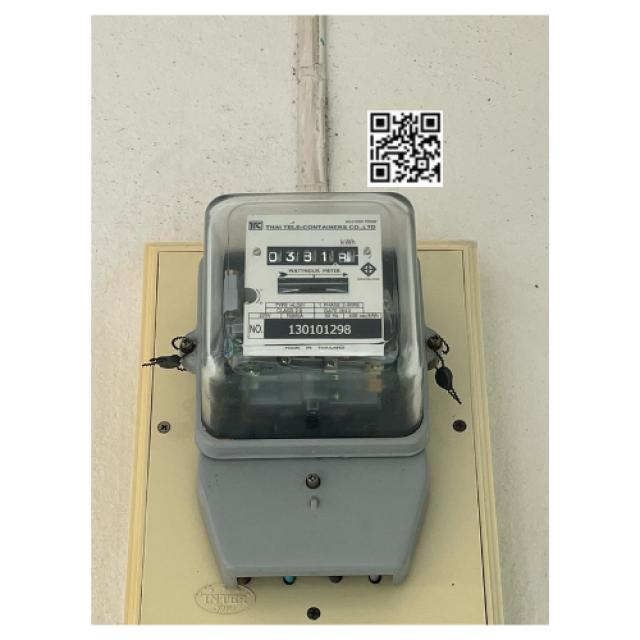qr_code: (367, 110, 444, 189)
